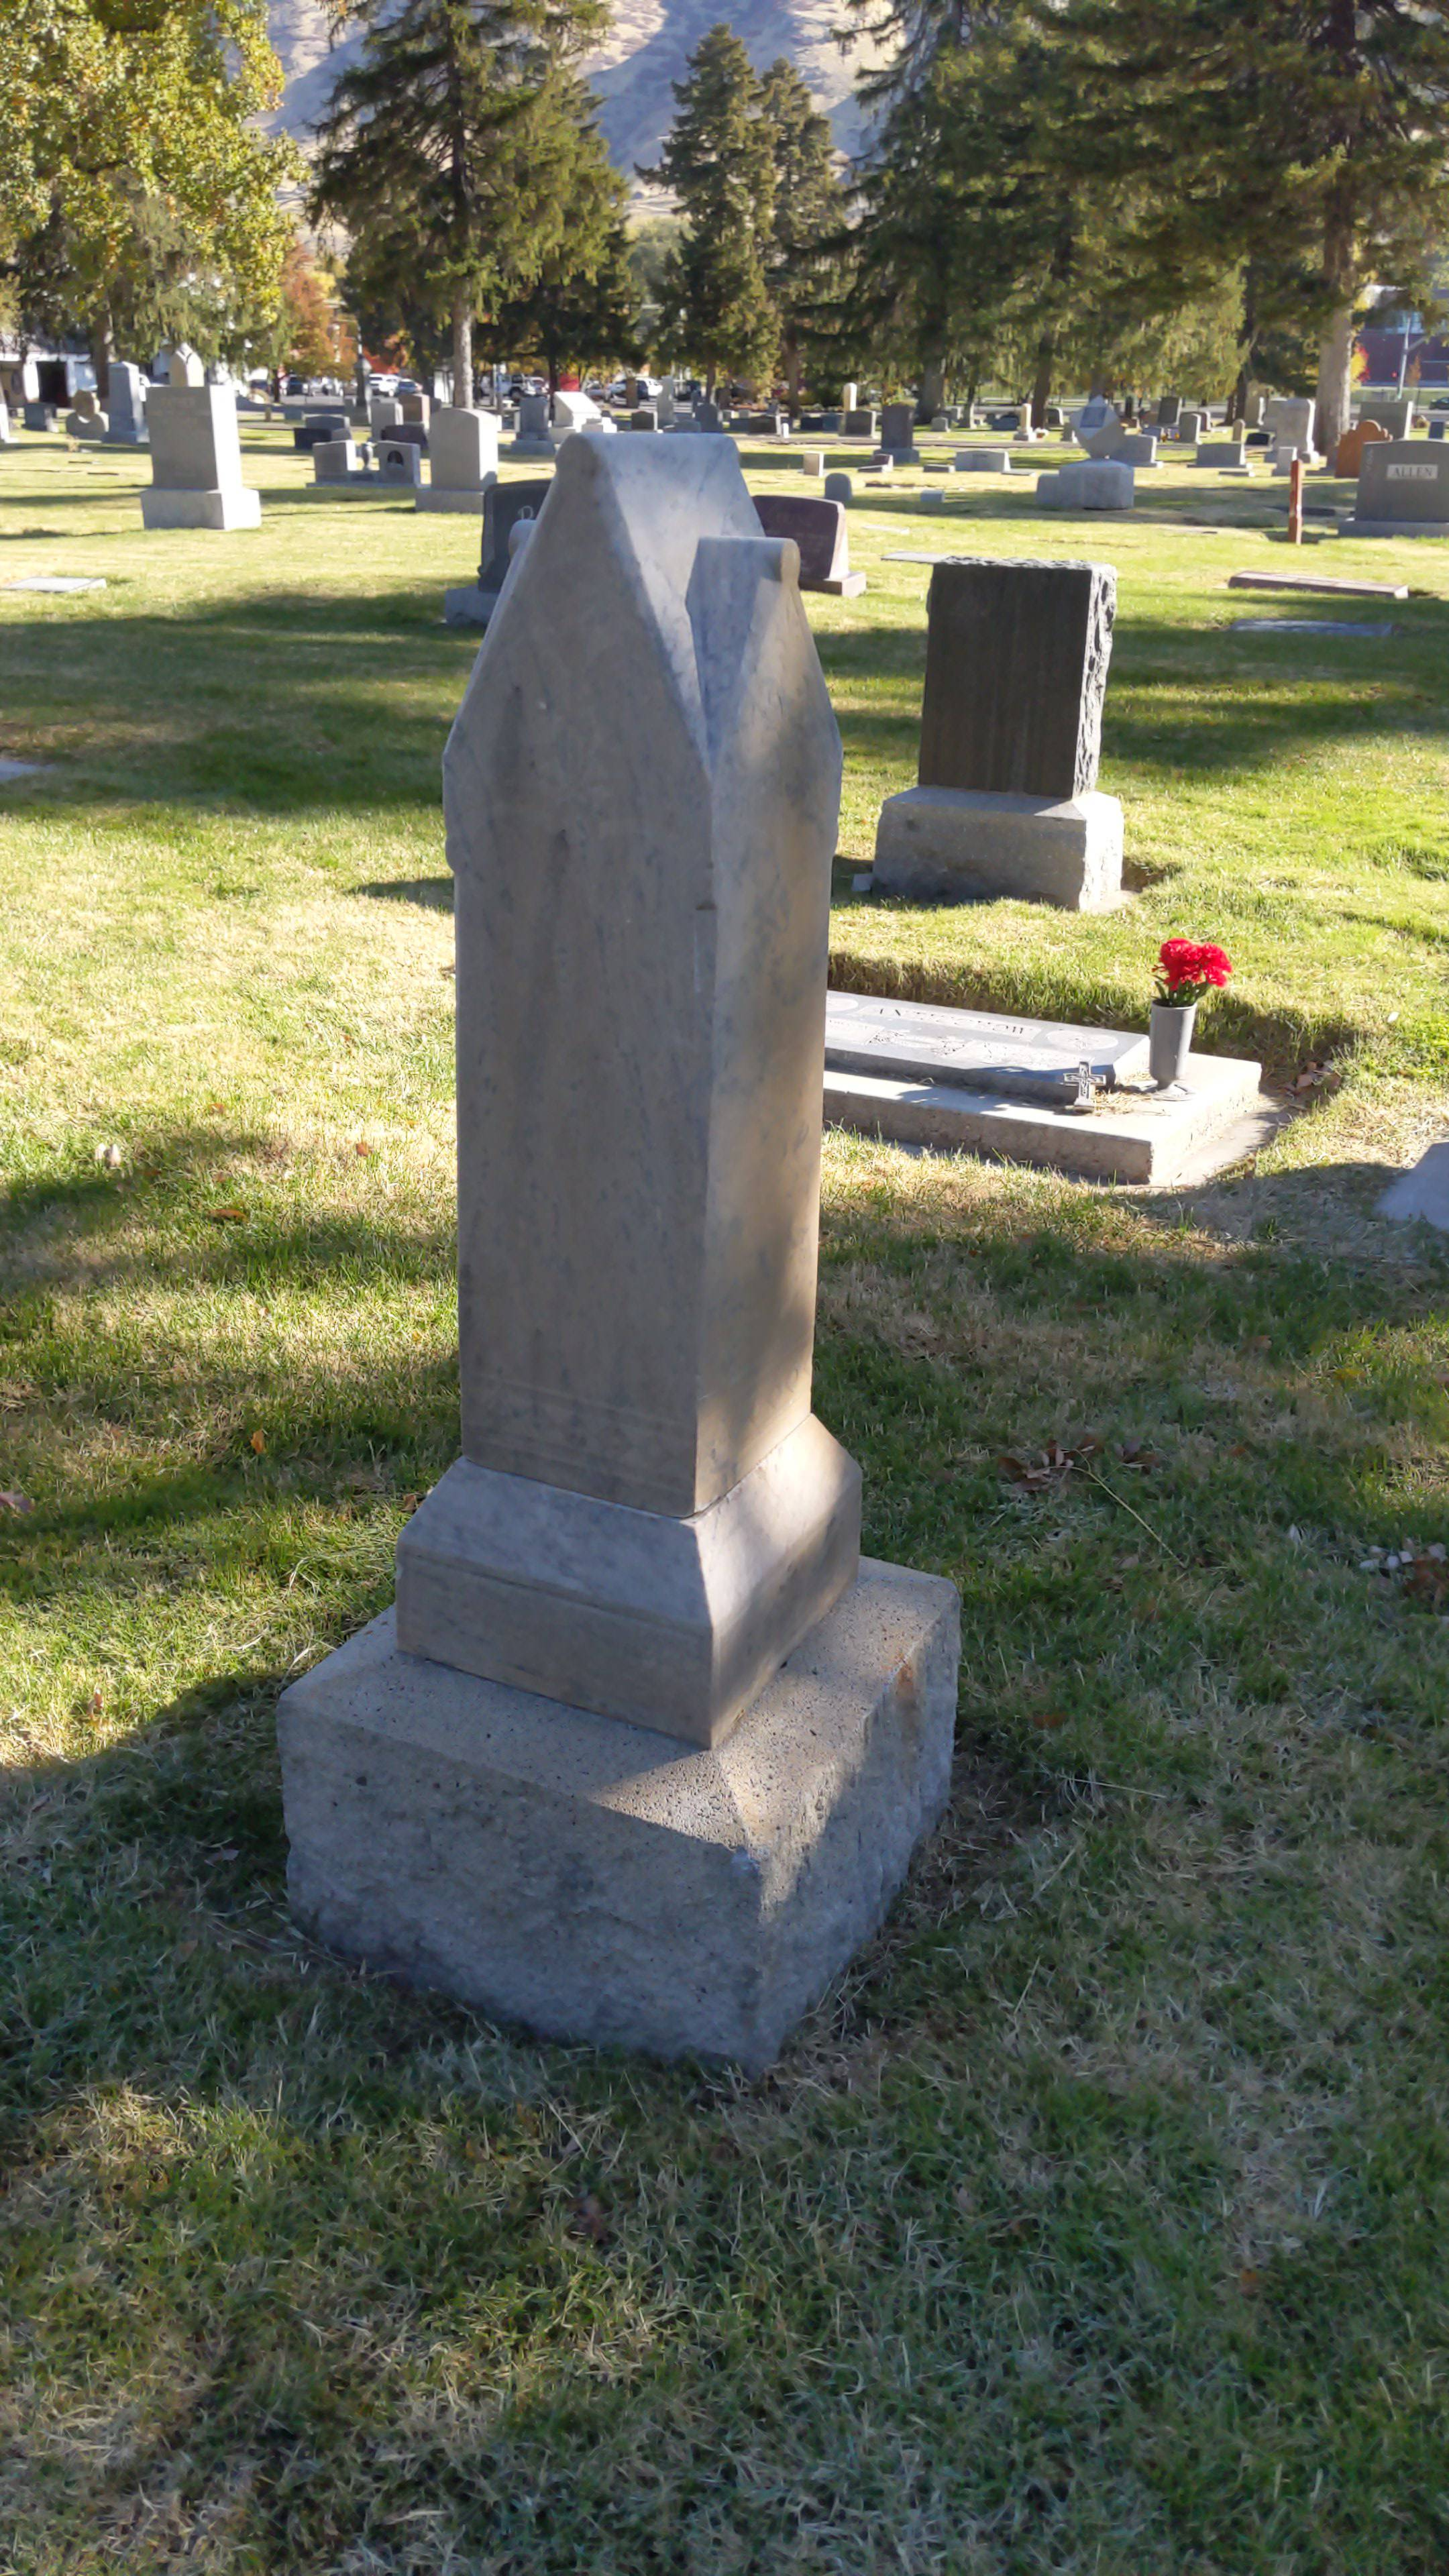obelisk: (400, 423, 862, 1748)
